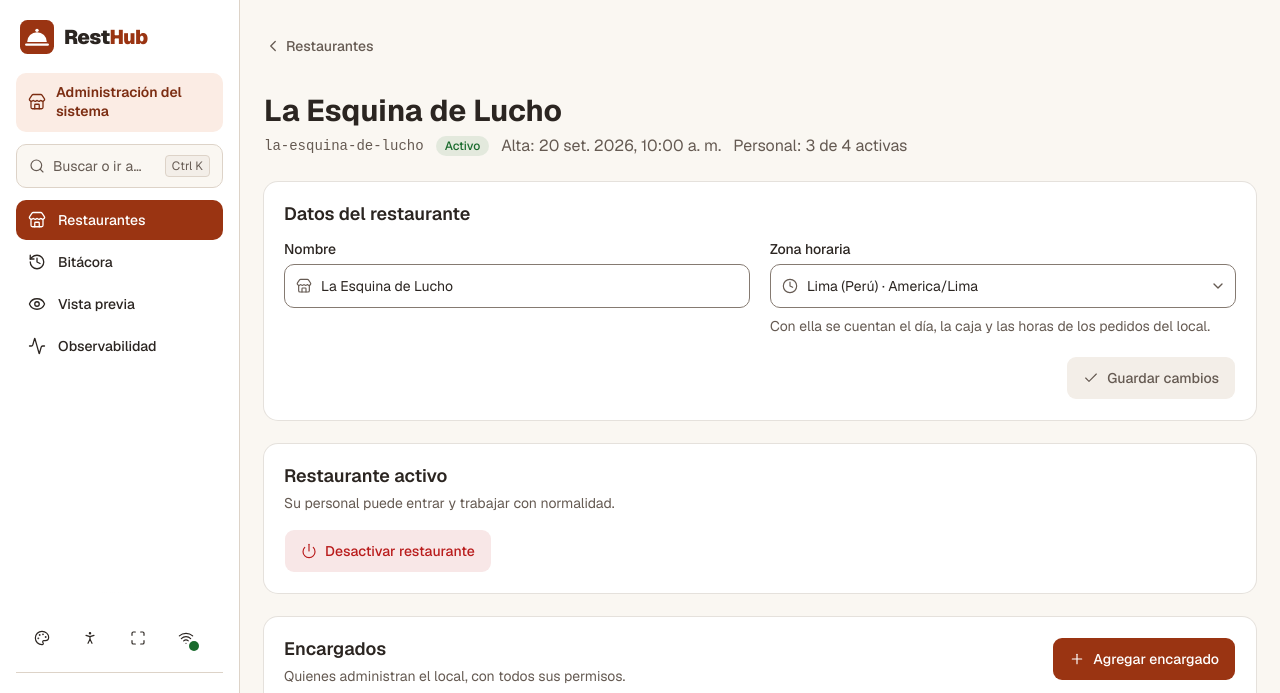
RestaurantDetailView › guarda solo el campo que se cambió y muestra lo que devolvió el servidor
The image size is (1280, 693).
Expected: the button "Guardar cambios" is disabled, [1066,356,1236,400]
Replace the text in the field labelled "Nombre" with "  La Esquina  " at (517, 286), box [284,264,750,308]
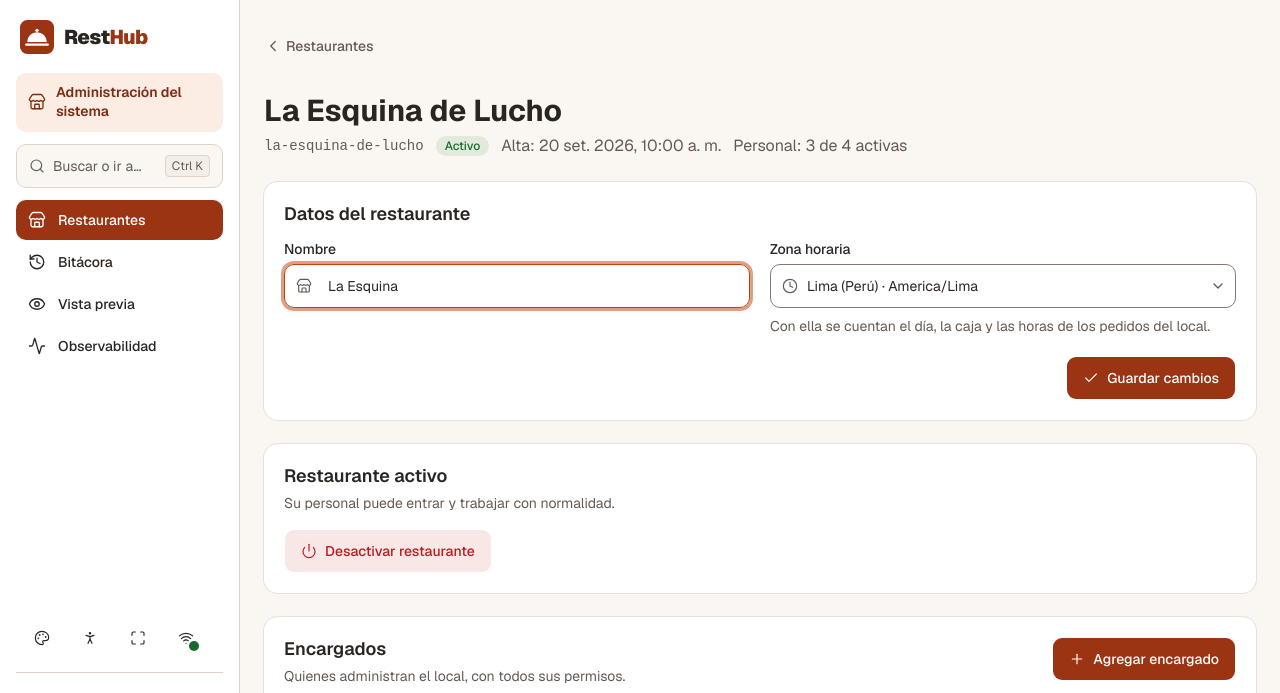
Click the button "Guardar cambios" at (1151, 378), box [1066,356,1236,400]
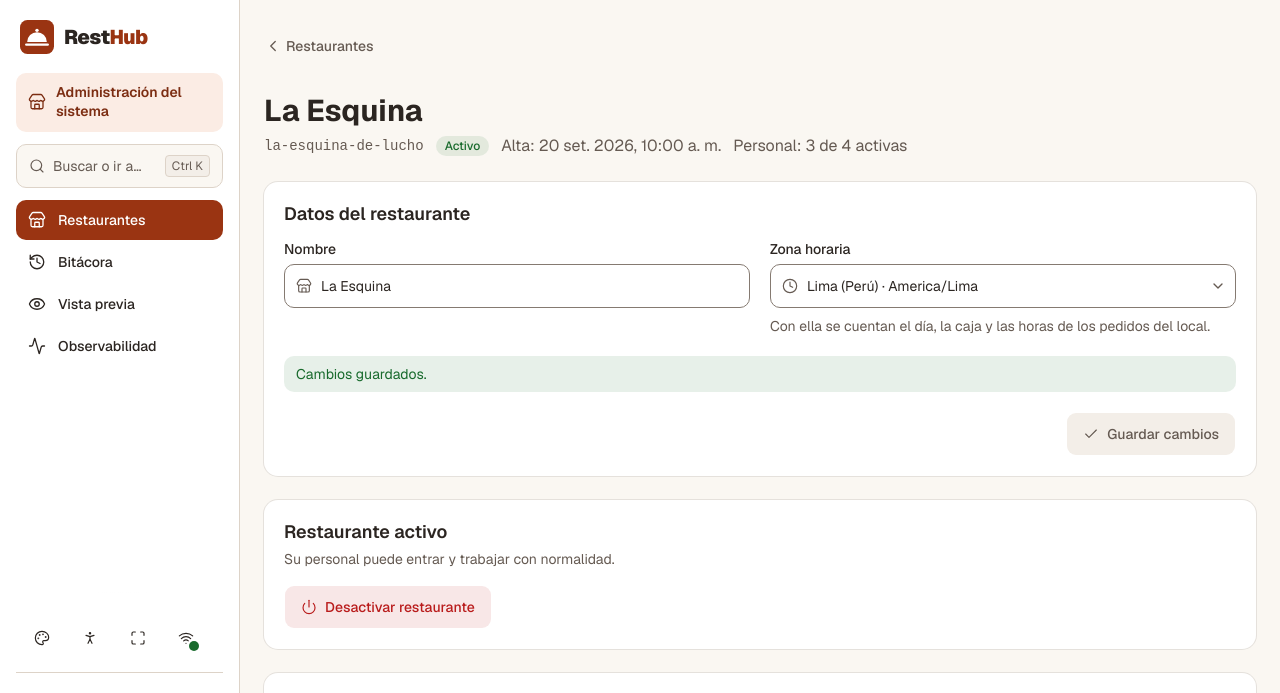
Expected: the heading "La Esquina" is shown, [264,91,423,130]
Expected: the text "Cambios guardados." is shown, [284,356,1236,392]
